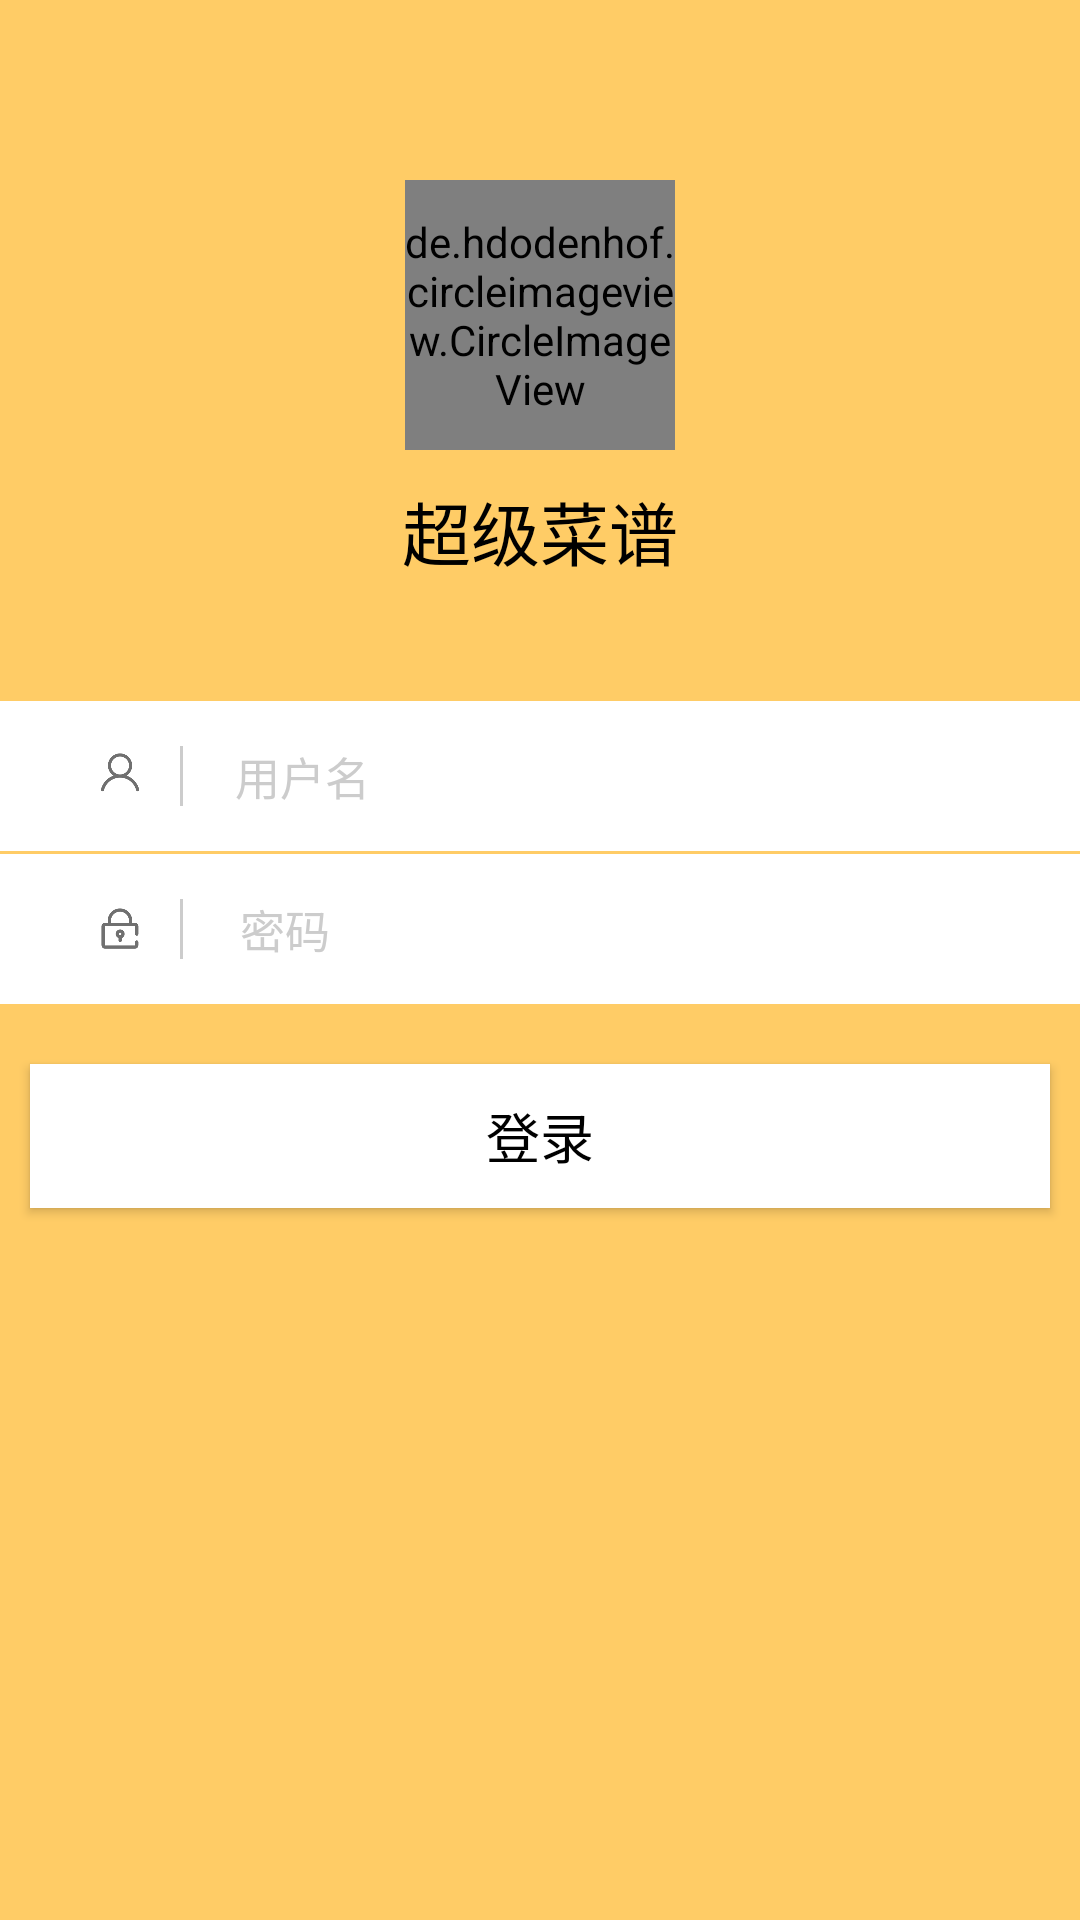

Icons on this 1080 × 1920 Android screen, each with the point to tap as (x=x, y=y):
mima: (x=120, y=928)
user: (x=120, y=772)
